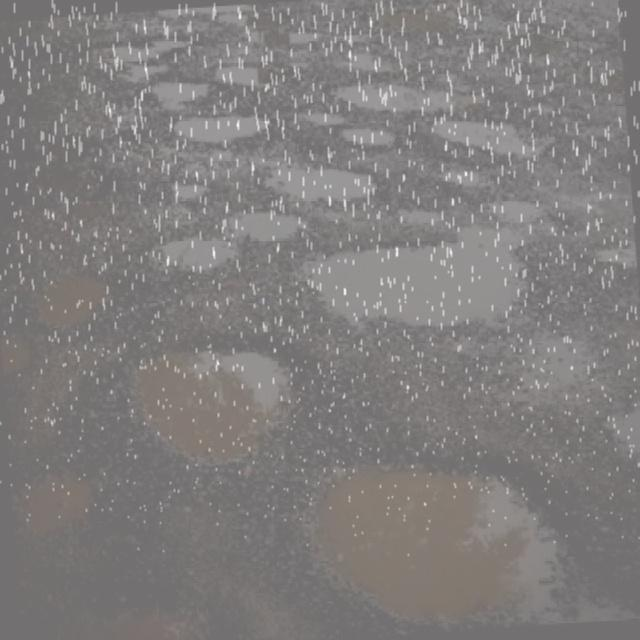Pothole: (291, 417, 573, 640), (288, 213, 564, 336), (119, 336, 293, 503), (2, 436, 102, 556), (14, 253, 120, 333), (130, 215, 237, 276), (259, 156, 384, 207), (240, 191, 316, 266), (146, 170, 226, 214)
